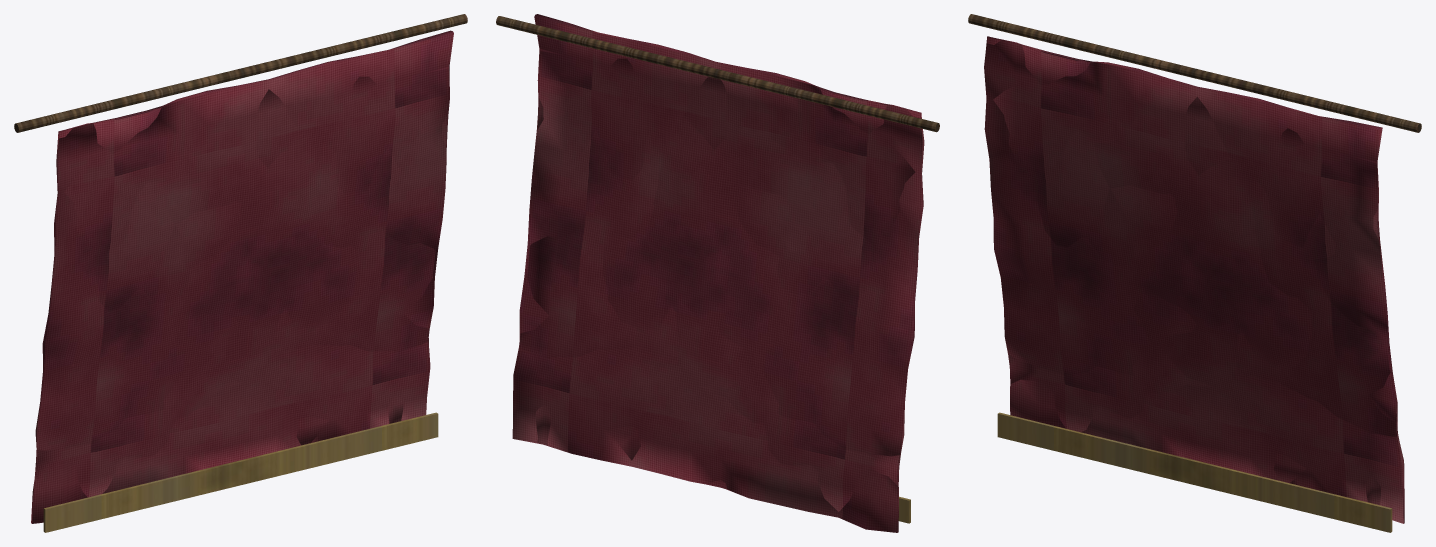
Rendered from CL04_DrapedSari.glb.
3 renders of one model, left to right at view 1: azimuth 30°, elevation 25°; view 2: azimuth 150°, elevation 25°; view 3: azimuth 330°, elevation 25°, orthographic. The views are drawn at different scales.
Parts seen in each view (by area): view 1: CL04_DrapedSari; view 2: CL04_DrapedSari; view 3: CL04_DrapedSari.
Part boxes in pixels (x1,y1,x2,y2): CL04_DrapedSari: (14, 14, 467, 532); CL04_DrapedSari: (496, 14, 939, 532); CL04_DrapedSari: (968, 14, 1421, 532).
Bounding box in the file's own units: 1.5 × 1.34 × 0.17.
3 materials, 3 textured.
